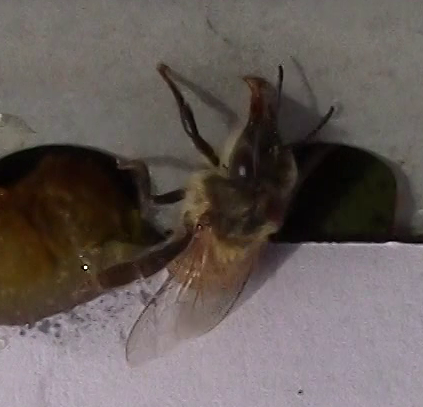Varroa destructor: (266, 197, 288, 227)
